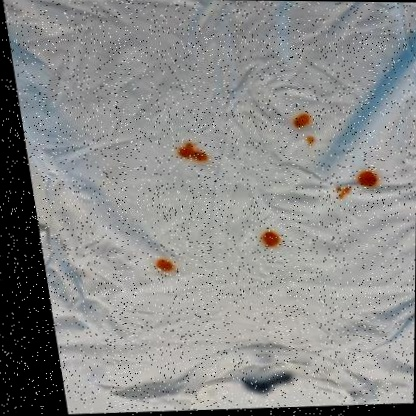kimchi: (174, 138, 208, 170), (354, 164, 377, 193), (257, 225, 282, 251), (291, 111, 312, 133), (332, 181, 350, 200), (154, 258, 171, 275), (305, 137, 317, 147)
